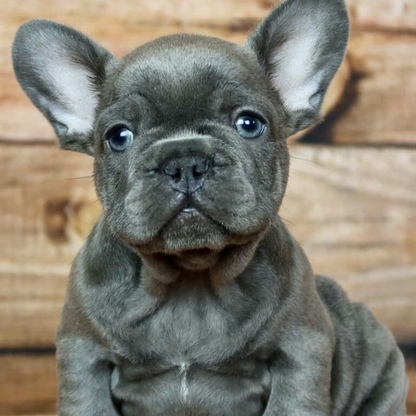bulldog: (15, 8, 409, 416)
